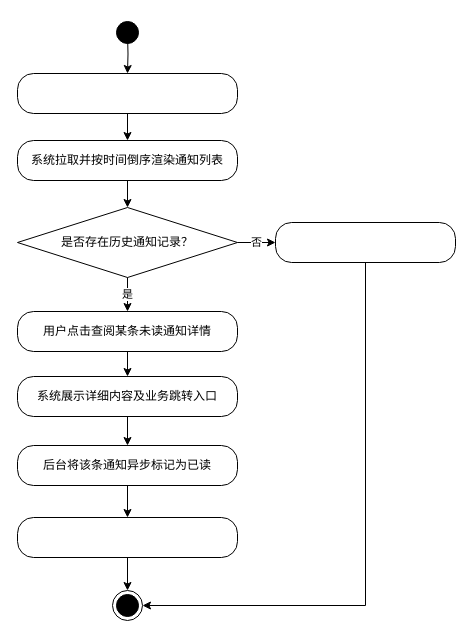
The diagram is 473 pixels wide and 638 high, and some of its shapes have lost their labels. Each missing label, with the box of its shape:
前端扣减未读总数并更新红点状态: (16, 516, 238, 558)
展示“暂无通知”缺省页面: (274, 222, 456, 262)
用户点击进入消息中心: (16, 72, 238, 114)
